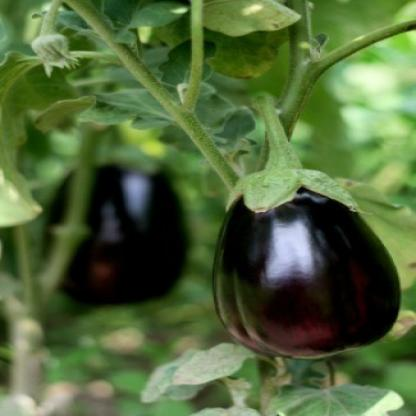--: (206, 83, 403, 369)
